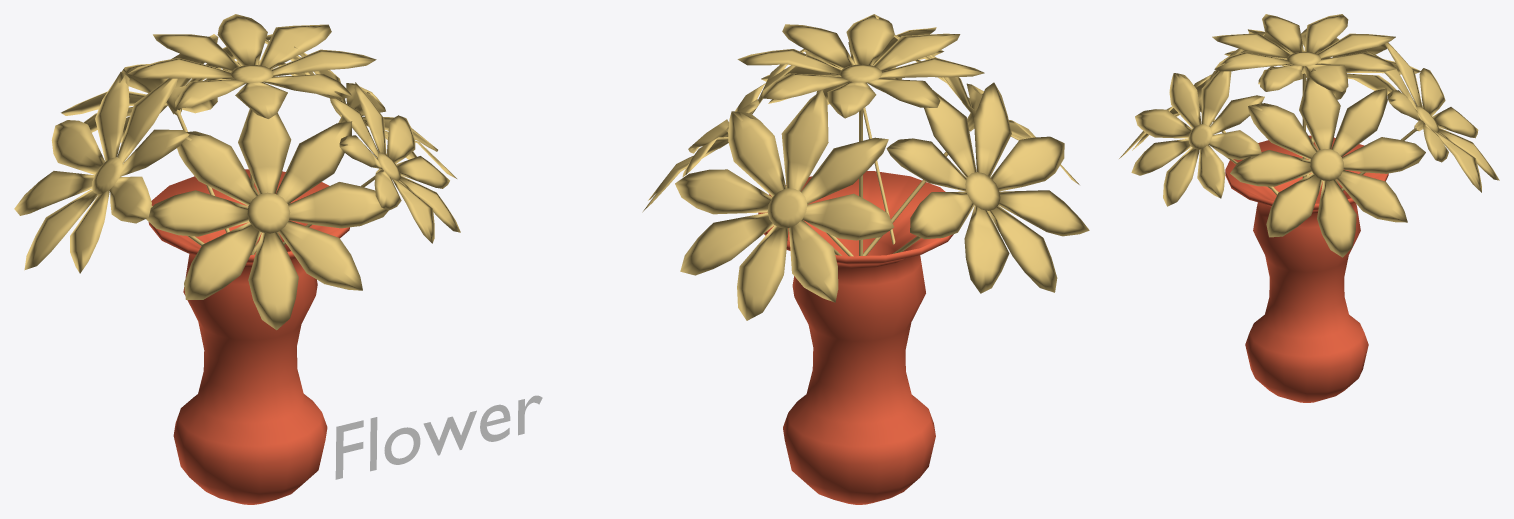
Rendered from flower1.gltf.
3 views of the same model, side by side, from view 1: azimuth 30°, elevation 25°; view 2: azimuth 150°, elevation 25°; view 3: azimuth 270°, elevation 25° (orthographic). The views are drawn at different scales.
Parts seen in each view (by area): view 1: flower.001, vase, flower.003, flower, flower.005, Text, flower.002, flower.004; view 2: vase, flower.002, flower.003, flower, flower.004, flower.001, flower.005; view 3: vase, flower.004, flower.005, flower, flower.002, flower.003, flower.001.
Part boxes in pixels (x1=…): flower.001: x1=146, y1=109, x2=388, y2=330; vase: x1=148, y1=169, x2=349, y2=504; flower.003: x1=14, y1=72, x2=204, y2=273; flower: x1=128, y1=14, x2=376, y2=254; flower.005: x1=283, y1=82, x2=460, y2=244; Text: x1=335, y1=395, x2=542, y2=479; flower.002: x1=61, y1=34, x2=272, y2=232; flower.004: x1=254, y1=39, x2=456, y2=253; vase: x1=758, y1=171, x2=953, y2=504; flower.002: x1=675, y1=90, x2=894, y2=320; flower.003: x1=886, y1=82, x2=1089, y2=293; flower: x1=737, y1=14, x2=984, y2=255; flower.004: x1=642, y1=49, x2=853, y2=256; flower.001: x1=863, y1=35, x2=1079, y2=255; flower.005: x1=761, y1=27, x2=943, y2=244; vase: x1=1225, y1=135, x2=1388, y2=402; flower.004: x1=1230, y1=68, x2=1425, y2=257; flower.005: x1=1131, y1=71, x2=1278, y2=206; flower: x1=1212, y1=14, x2=1395, y2=178; flower.002: x1=1341, y1=42, x2=1499, y2=192; flower.003: x1=1224, y1=28, x2=1420, y2=176; flower.001: x1=1119, y1=33, x2=1278, y2=195.
Bounding box in the file's own units: 3.82 × 3.22 × 3.15.
